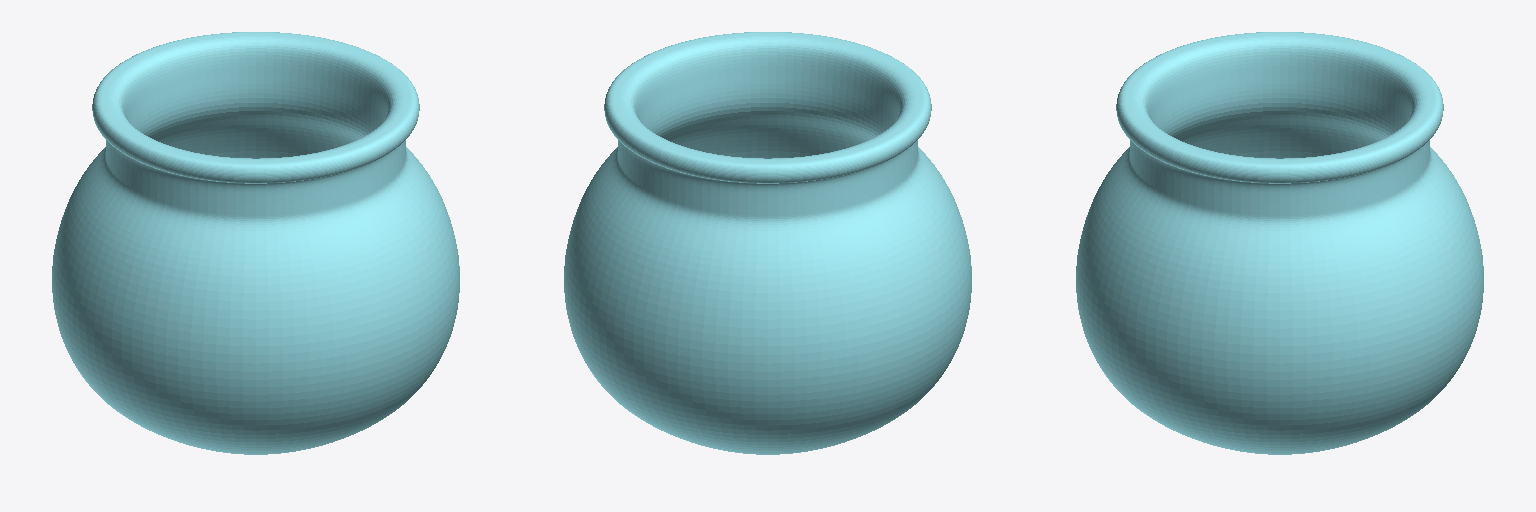
Rendered from FireJar.obj.
The picture shows the model from 3 angles: view 1: azimuth 30°, elevation 25°; view 2: azimuth 150°, elevation 25°; view 3: azimuth 270°, elevation 25°; orthographic projection.
Parts seen in each view (by area): view 1: Jar:_Honey_Jar_v1; view 2: Jar:_Honey_Jar_v1; view 3: Jar:_Honey_Jar_v1.
Boxes of the visible parts, box(x1,y1,x2,y2) form: Jar:_Honey_Jar_v1: box(52, 32, 459, 454); Jar:_Honey_Jar_v1: box(564, 32, 971, 454); Jar:_Honey_Jar_v1: box(1076, 32, 1483, 454).
Size of the model in its own units: 4.03 by 3.44 by 4.03.